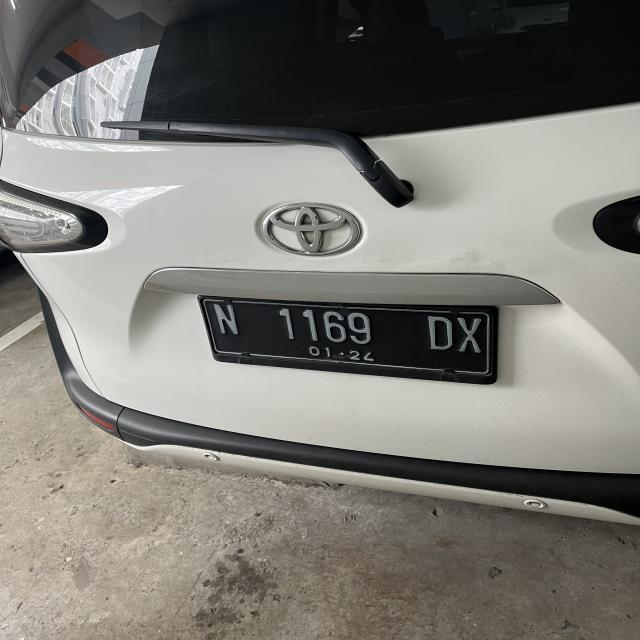1: (300, 308, 321, 344), (277, 304, 296, 341)
6: (324, 307, 345, 342)
9: (350, 312, 374, 343)
D: (418, 314, 454, 354)
N: (212, 302, 240, 334)
X: (455, 312, 483, 356)
